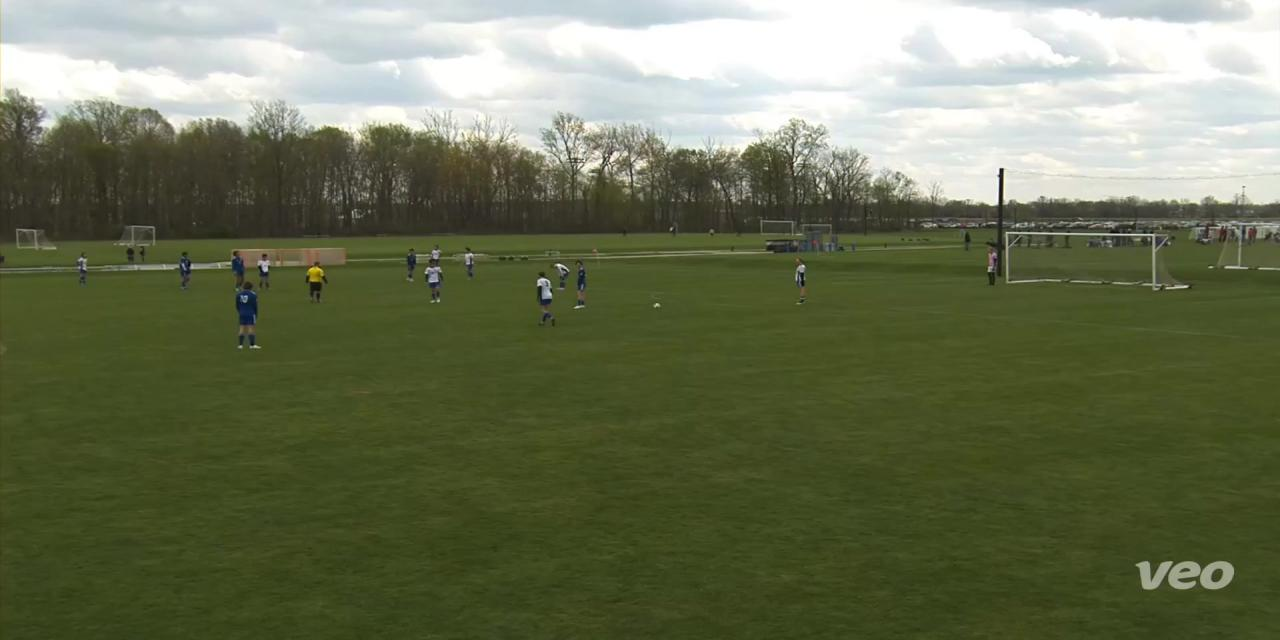goal: (1000, 225, 1198, 298)
sports ball: (648, 295, 668, 315)
